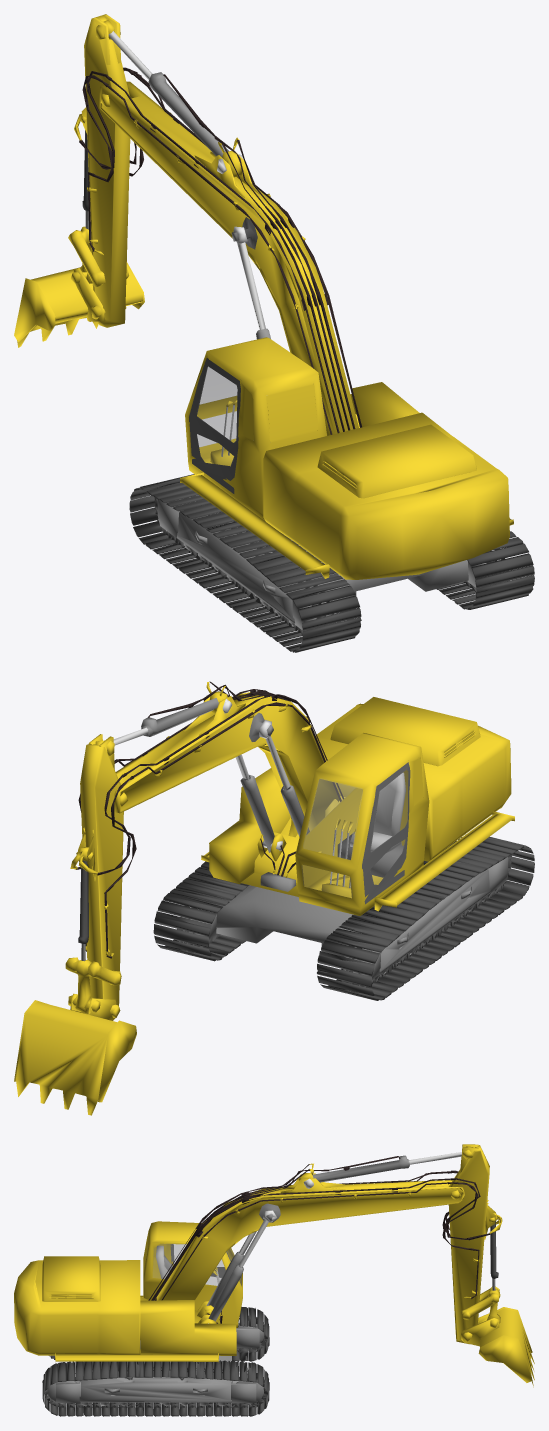
Rendered from excavator.glb.
3 renders of one model, top to bottom at view 1: azimuth 30°, elevation 25°; view 2: azimuth 150°, elevation 25°; view 3: azimuth 270°, elevation 25°, orthographic. The views are drawn at different scales.
Parts seen in each view (by area): view 1: roller_chamber; view 2: roller_chamber; view 3: roller_chamber.
Boxes of the visible parts, x1,y1,x2,y2 form: roller_chamber: [14, 14, 534, 652]; roller_chamber: [14, 681, 534, 1115]; roller_chamber: [14, 1144, 534, 1416].
Bounding box in the file's own units: 3.08 × 4.68 × 9.23.
